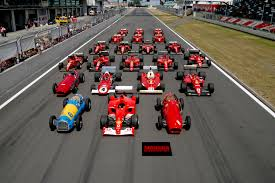FormulaOneCar: (100, 84, 139, 140), (176, 64, 216, 100), (90, 64, 123, 99), (137, 64, 167, 97), (56, 49, 91, 71), (151, 49, 180, 74), (87, 51, 118, 74), (183, 47, 212, 70), (119, 50, 146, 73), (162, 41, 187, 55), (112, 40, 134, 55), (89, 39, 109, 55), (137, 40, 158, 54)
